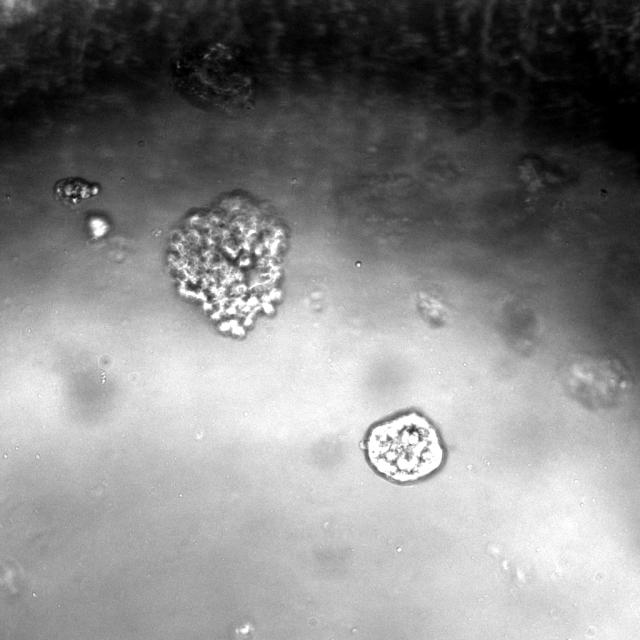organoid: (167, 190, 289, 337), (362, 410, 444, 484), (172, 41, 255, 110), (54, 177, 100, 205), (84, 211, 112, 241)
